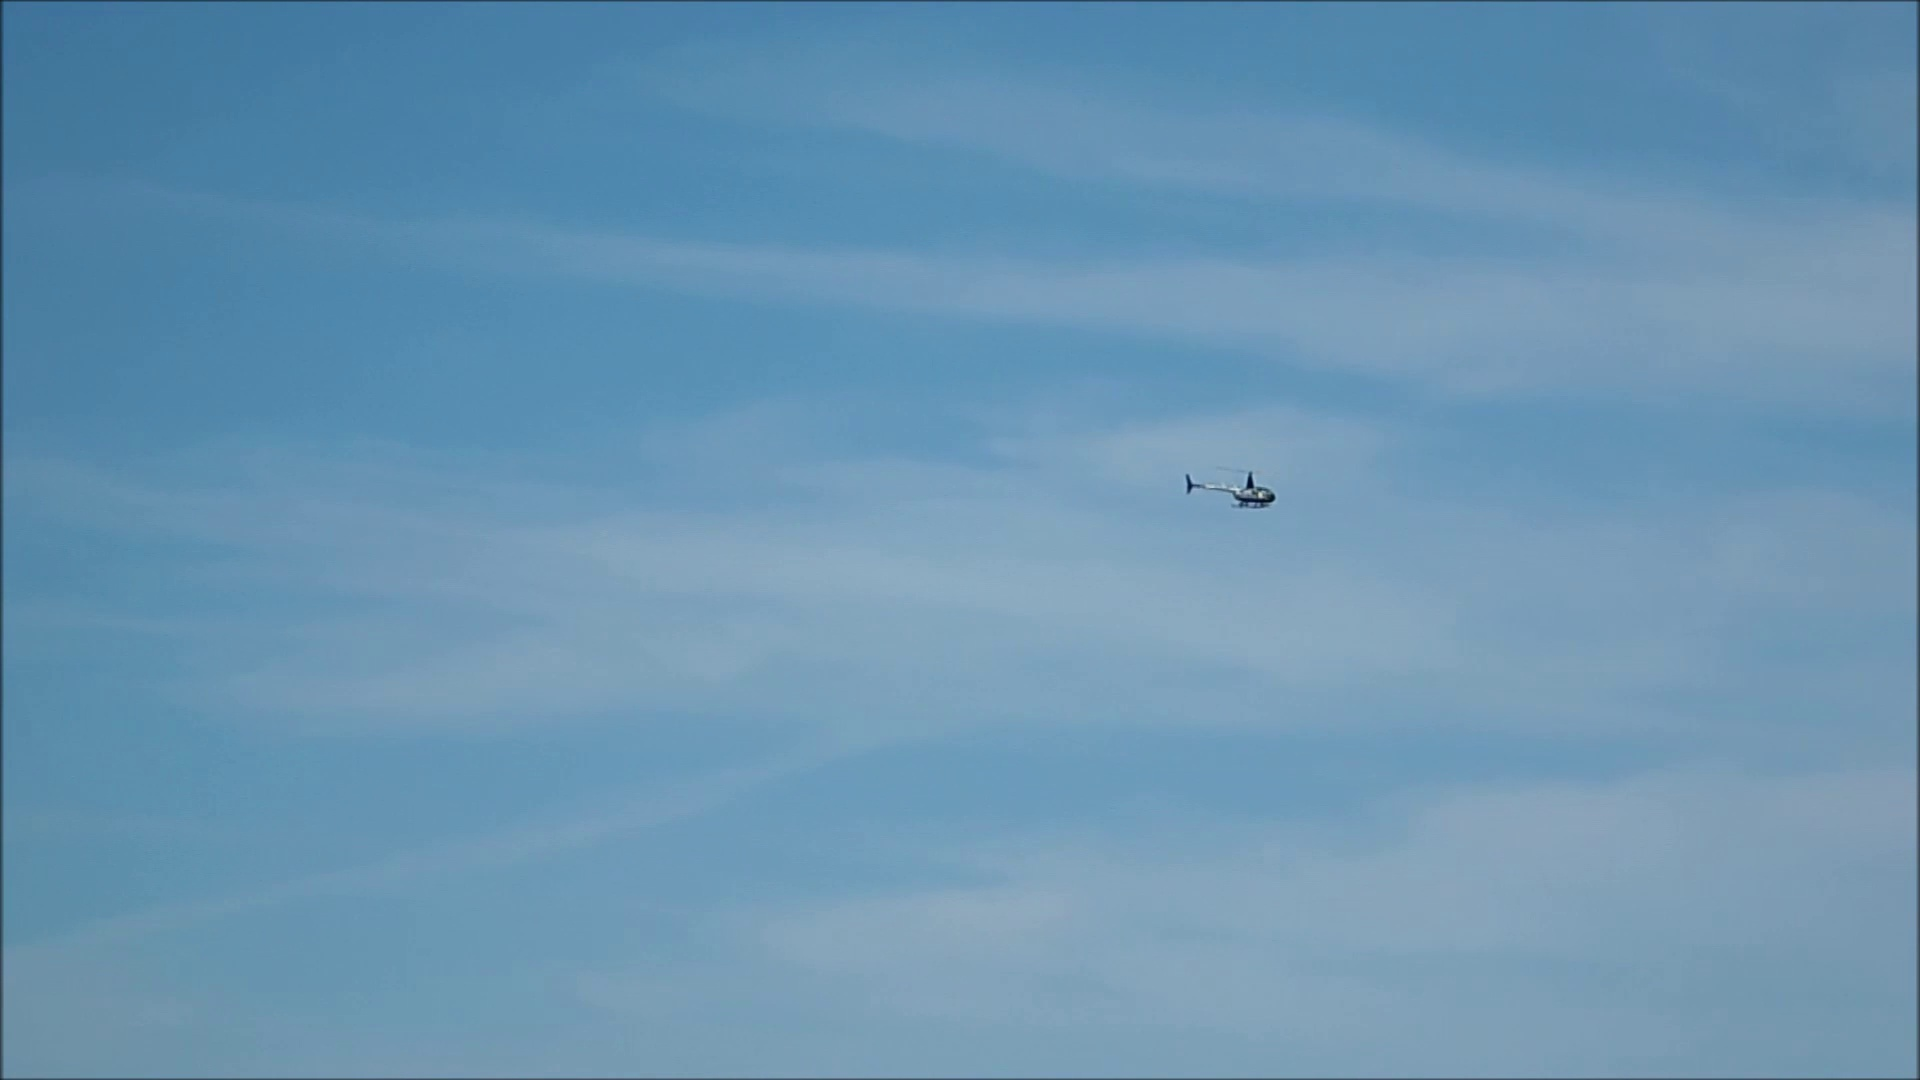heli: (1183, 463, 1283, 512)
